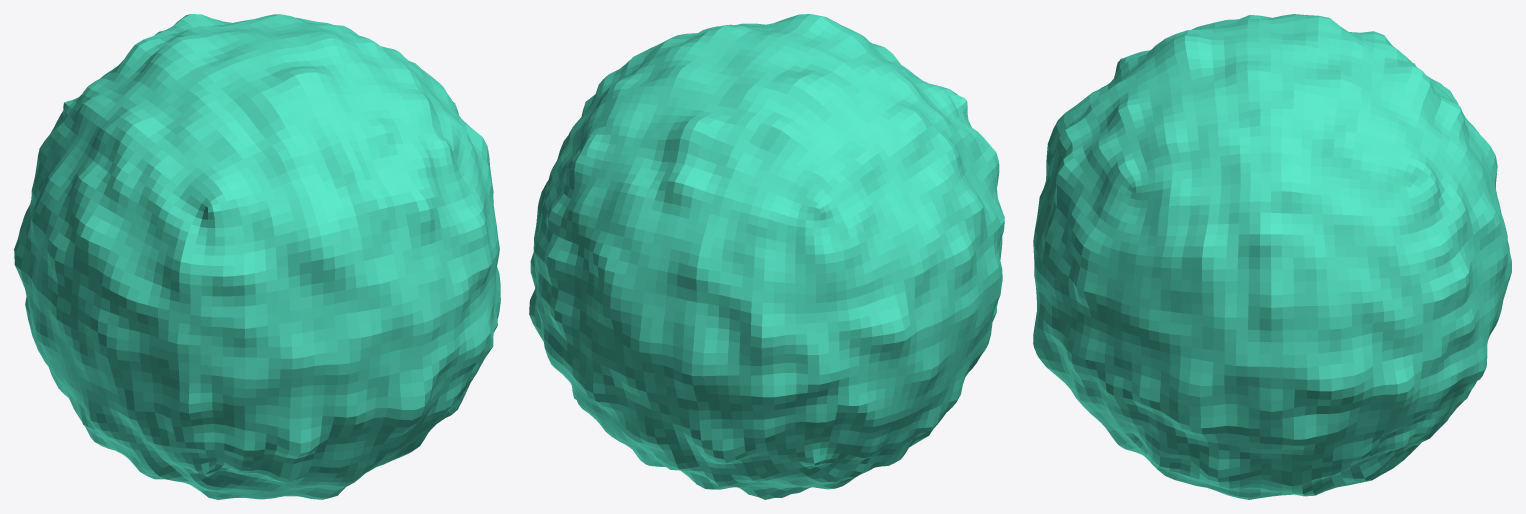
File: testball9.gltf
The picture shows the model from 3 angles, left to right: view 1: azimuth 30°, elevation 25°; view 2: azimuth 150°, elevation 25°; view 3: azimuth 270°, elevation 25°; orthographic projection. The views are drawn at different scales.
Parts seen in each view (by area): view 1: Displace; view 2: Displace; view 3: Displace.
Boxes of the visible parts, x1,y1,x2,y2 form: Displace: (14,14,500,499); Displace: (529,14,1004,499); Displace: (1033,14,1511,499).
Bounding box in the file's own units: 3.21 × 3.21 × 3.22.
